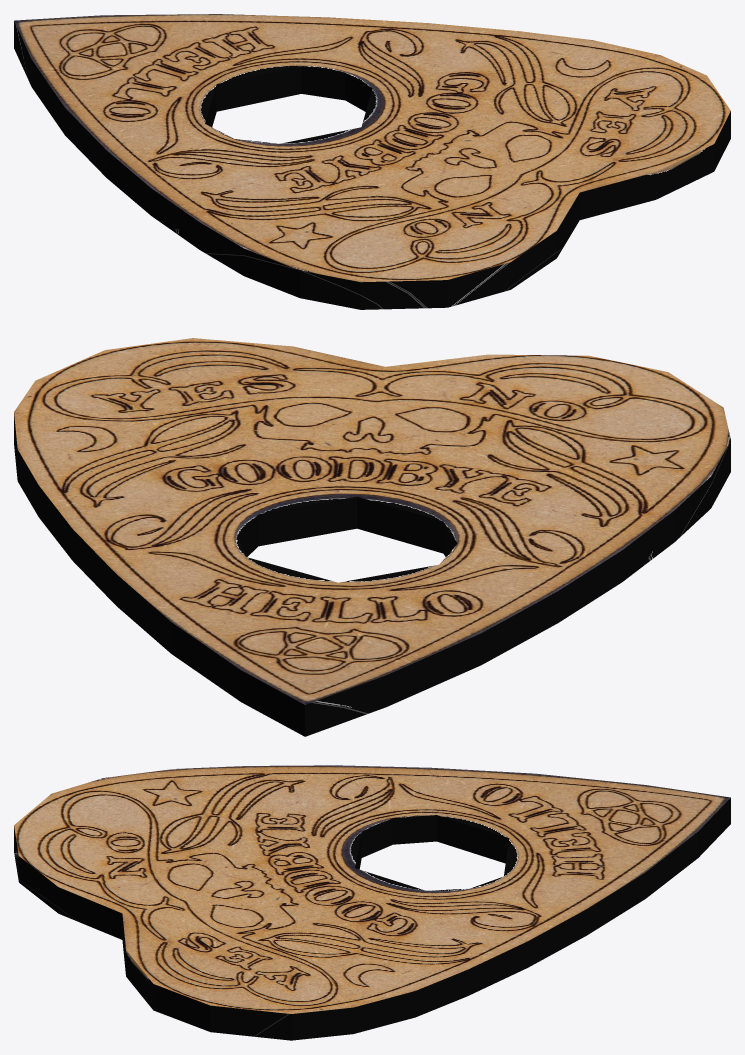
File: Ouija_planchette.glb
3 renders of one model, top to bottom at view 1: azimuth 30°, elevation 25°; view 2: azimuth 150°, elevation 25°; view 3: azimuth 270°, elevation 25°, orthographic. The views are drawn at different scales.
Visible parts, largest first — view 1: planchette-noimp; view 2: planchette-noimp; view 3: planchette-noimp.
Part boxes in pixels (x1=…): planchette-noimp: x1=14, y1=14, x2=730, y2=309; planchette-noimp: x1=14, y1=338, x2=730, y2=736; planchette-noimp: x1=14, y1=765, x2=730, y2=1040.
Size of the model in its own units: 0.4937 by 0.0246 by 0.6013.
1 material, 1 textured.
